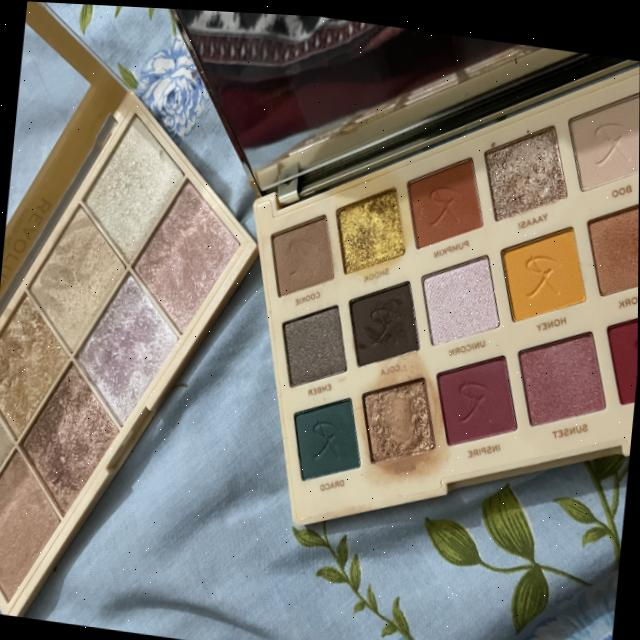eye shade: (311, 164, 564, 480), (434, 135, 639, 437), (536, 48, 640, 418), (261, 283, 358, 392), (270, 377, 364, 484), (258, 202, 348, 301)
highlighter: (124, 141, 249, 351), (11, 342, 128, 521), (70, 251, 180, 432), (75, 107, 188, 276), (22, 205, 139, 359), (0, 275, 74, 456), (0, 418, 66, 609), (0, 365, 31, 535)
